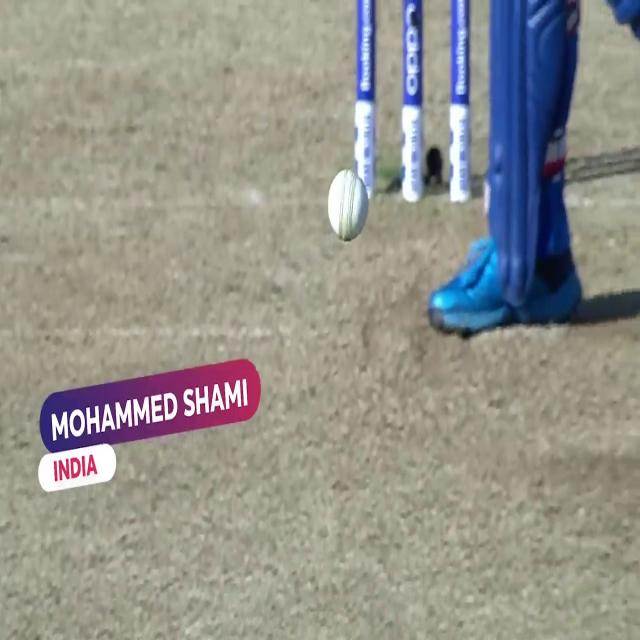ball: (326, 164, 372, 248)
